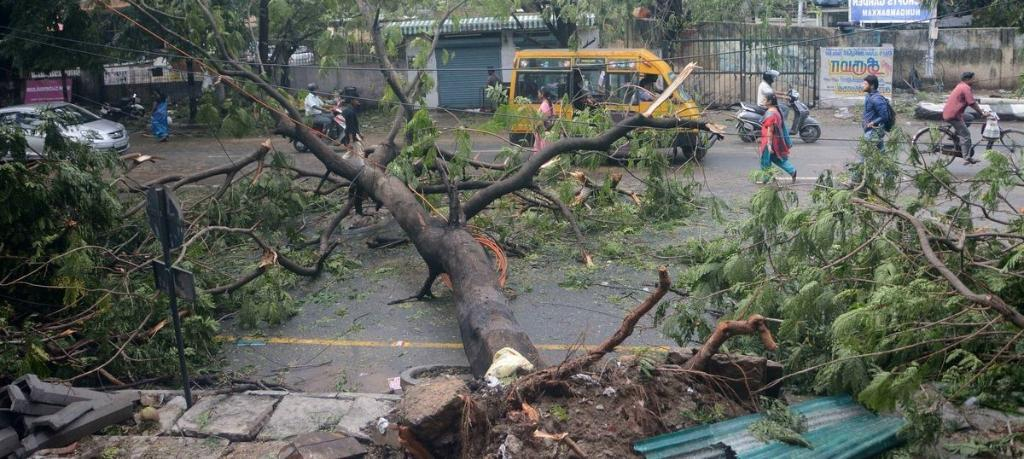ROAD_OBSTACLE: (102, 129, 942, 413)
